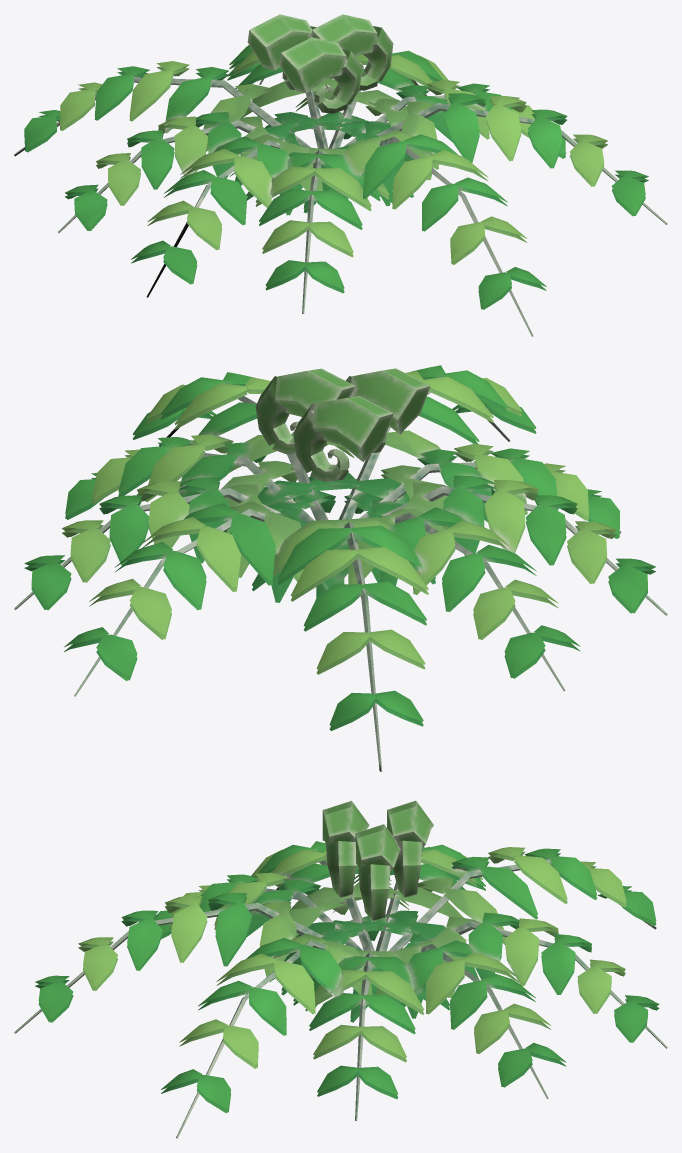
The model's file is fern.glb.
3 renders of one model, top to bottom at view 1: azimuth 30°, elevation 25°; view 2: azimuth 150°, elevation 25°; view 3: azimuth 270°, elevation 25°, orthographic. The views are drawn at different scales.
Visible parts, largest first — view 1: SM_Fern; view 2: SM_Fern; view 3: SM_Fern.
Part boxes in pixels (left/top/right/bottom): SM_Fern: left=14, top=14, right=667, bottom=336; SM_Fern: left=14, top=365, right=667, bottom=771; SM_Fern: left=14, top=800, right=667, bottom=1138.
Bounding box in the file's own units: 1.52 × 0.5897 × 1.76.
1 material, 1 textured.
